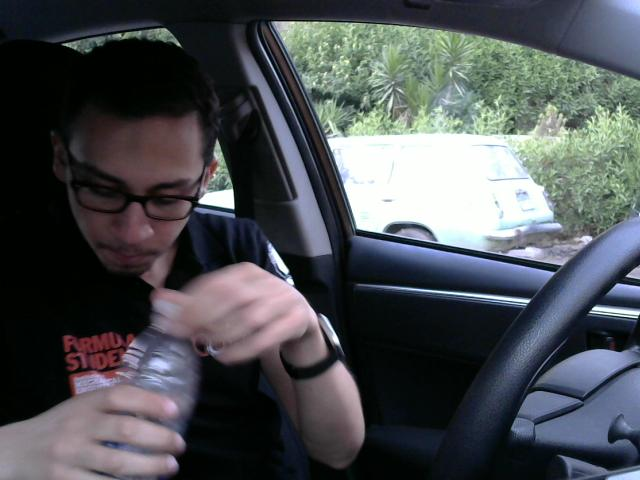Drinking: (103, 294, 206, 479)
